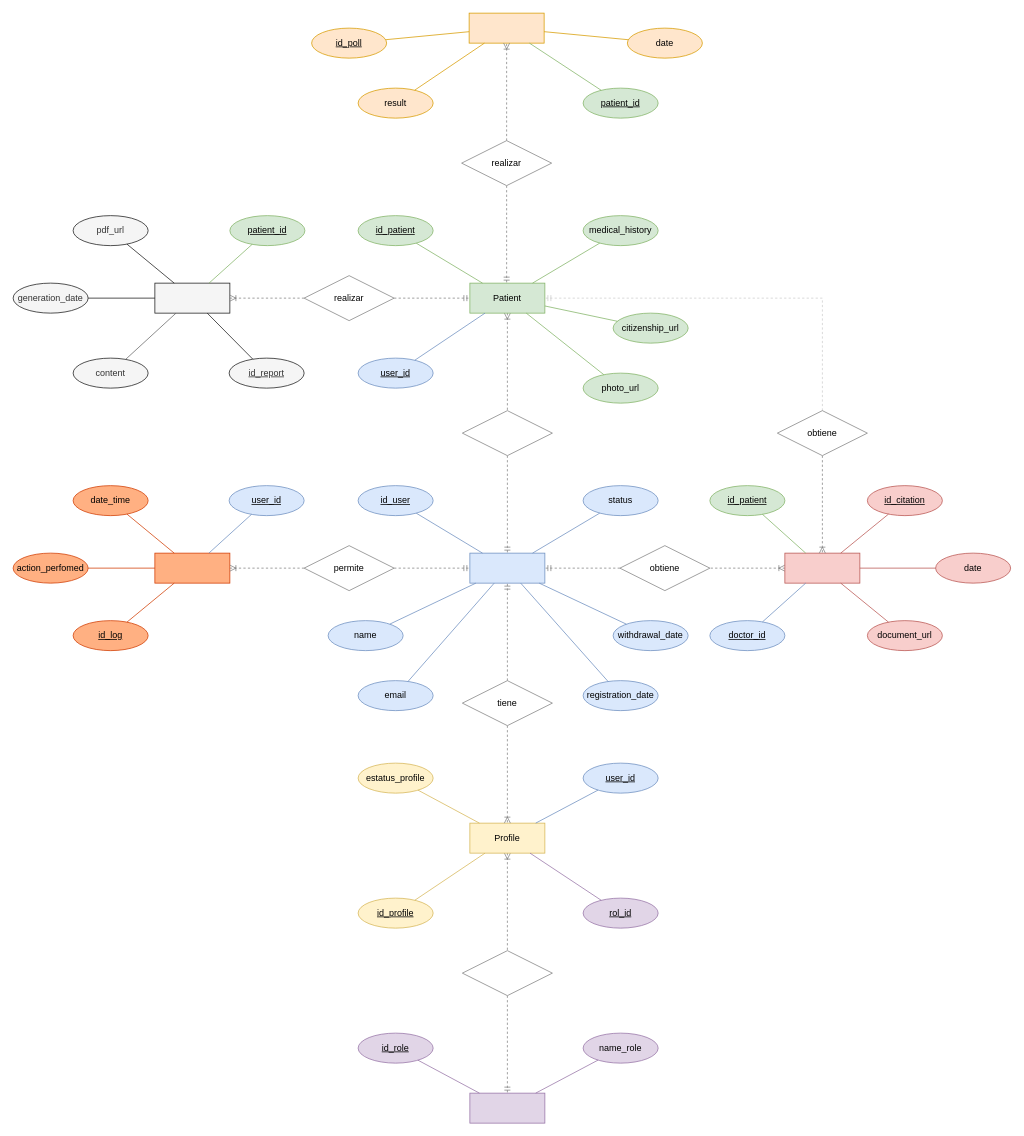
Image size: 1024x1136. Some labels were removed from this diagram. Here are the shapes that lost their labels. From the top down, the centre of each, then its label:
(506,27): Poll
(192,297): Report
(507,433): ser
(192,567): AccessLog
(507,567): User
(822,567): Citation
(507,973): es
(507,1107): Role
